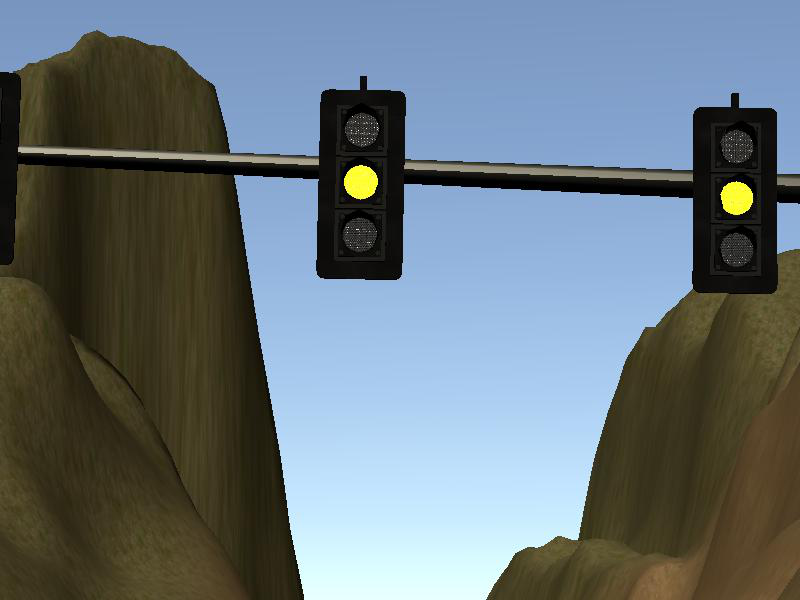yellow: (692, 105, 778, 296), (319, 87, 404, 279)
